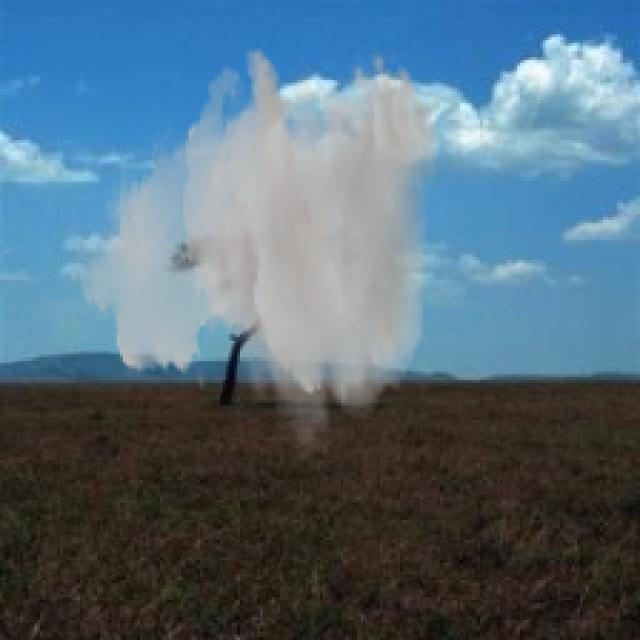Smoke: (69, 46, 438, 463)
